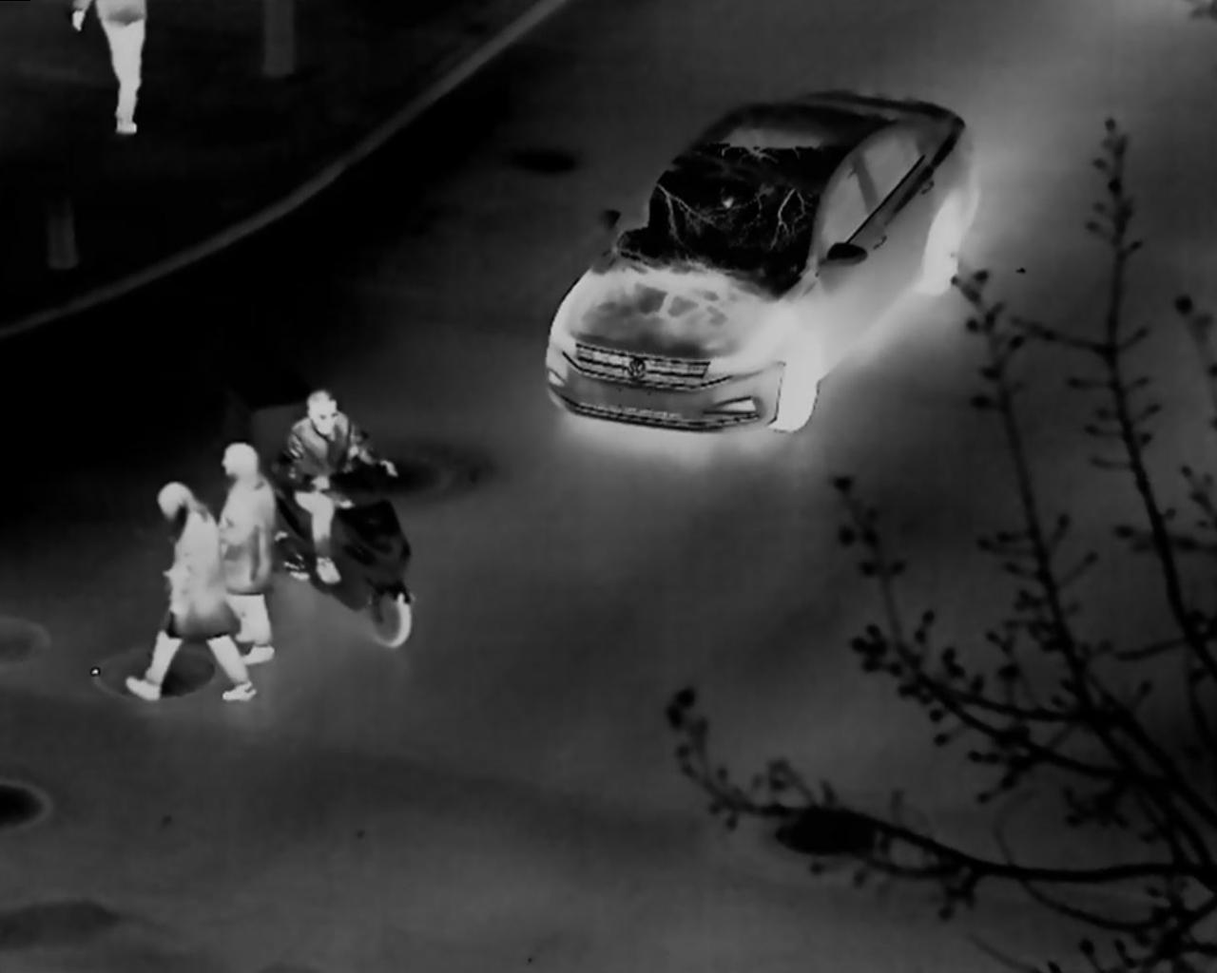person: (123, 476, 259, 702), (281, 385, 398, 589), (216, 441, 280, 665)
